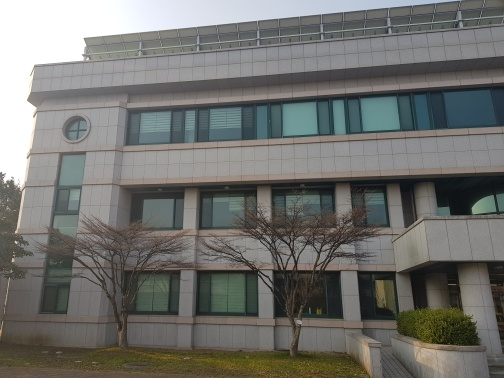Information Telecommunication Center: (17, 18, 504, 353), (26, 62, 110, 346)
